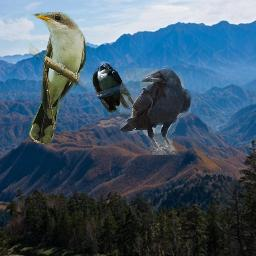Crow: (120, 68, 191, 155)
Cuckoo: (29, 12, 87, 144)
Swallow: (91, 61, 137, 116)
